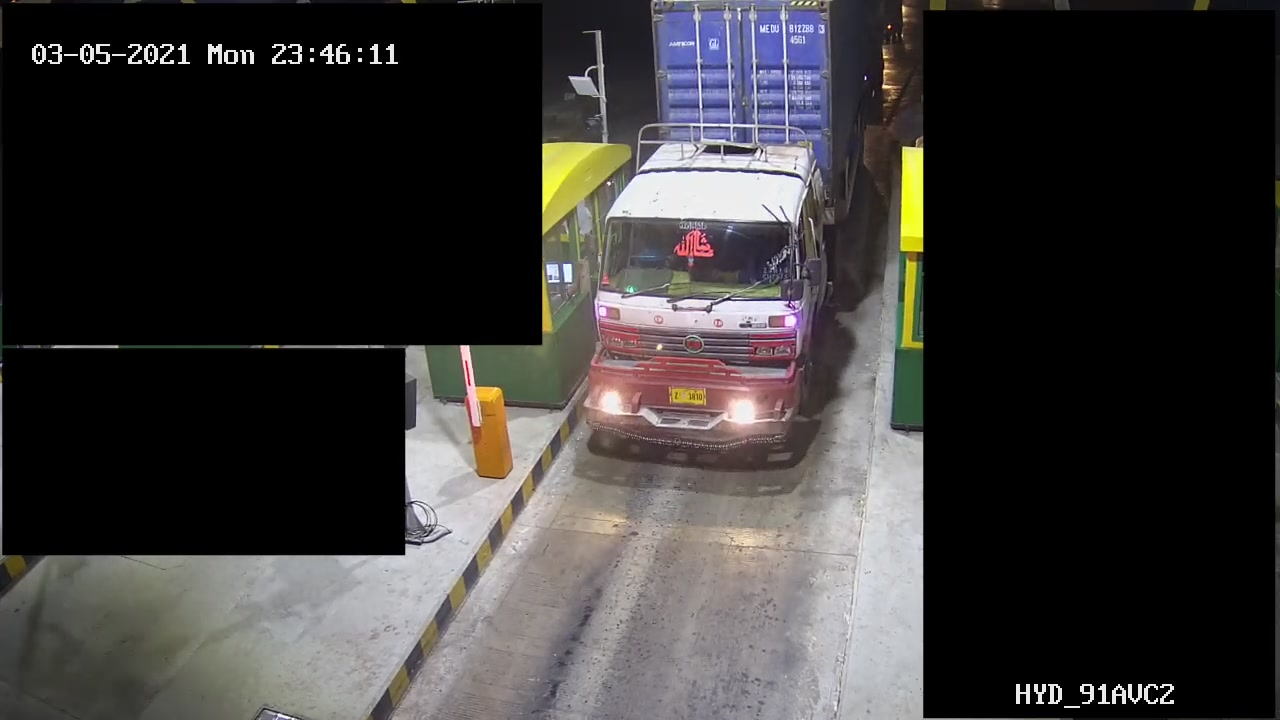F6: (587, 1, 875, 471)
